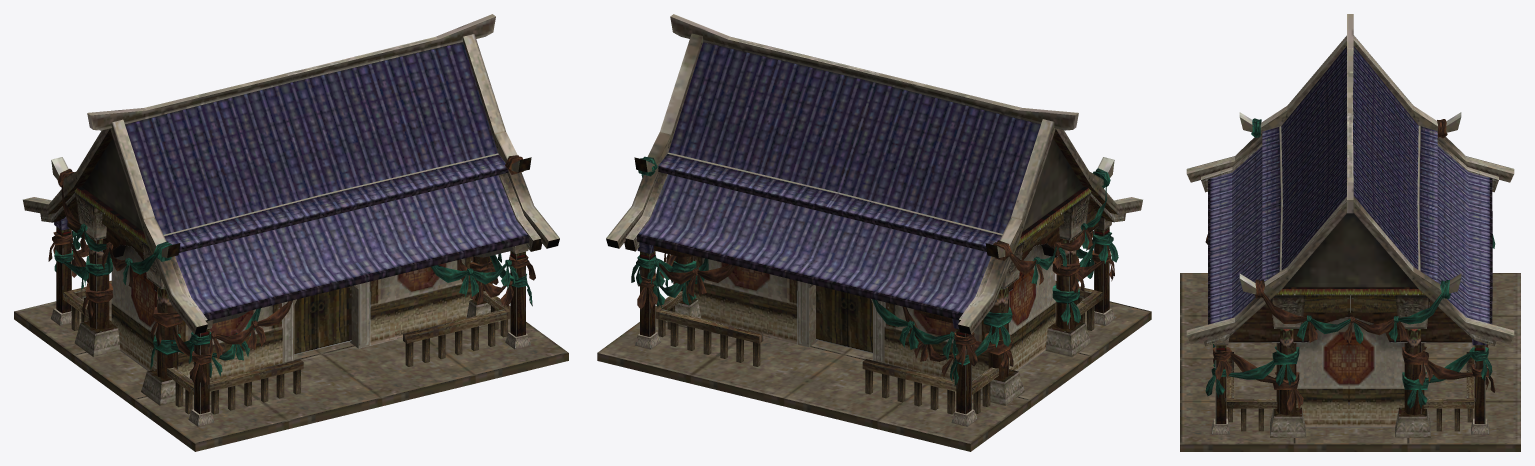
The model's file is rms-001.fbx.
3 views of the same model, side by side, from view 1: azimuth 30°, elevation 25°; view 2: azimuth 150°, elevation 25°; view 3: azimuth 270°, elevation 25° (orthographic). The views are drawn at different scales.
Visible parts, largest first — view 1: RMs-001_1, RMs-001_2; view 2: RMs-001_1, RMs-001_2; view 3: RMs-001_1, RMs-001_2.
Boxes of the visible parts, x1,y1,x2,y2 form: RMs-001_1: (14,14,568,451); RMs-001_2: (50,187,531,426); RMs-001_1: (597,14,1151,451); RMs-001_2: (635,187,1114,426); RMs-001_1: (1180,14,1520,451); RMs-001_2: (1211,287,1489,437).
Size of the model in its own units: 11.98 by 7.77 by 9.27.
